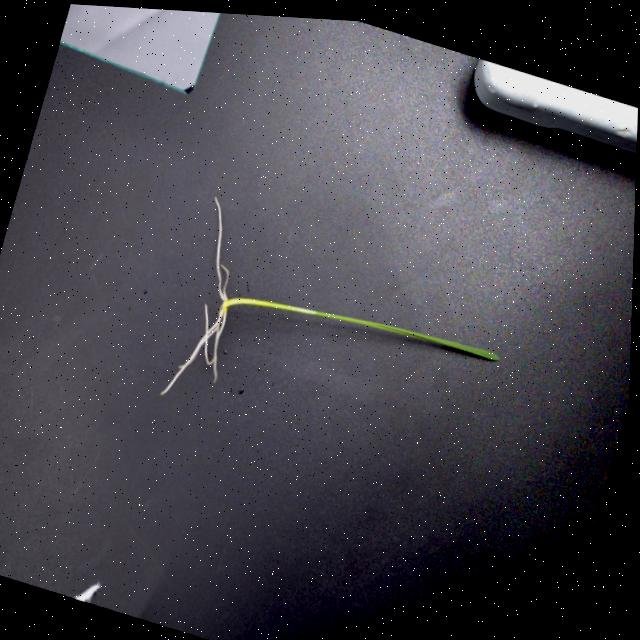leaf: (312, 309, 498, 363)
root: (158, 302, 227, 398)
steb: (221, 297, 313, 317)
